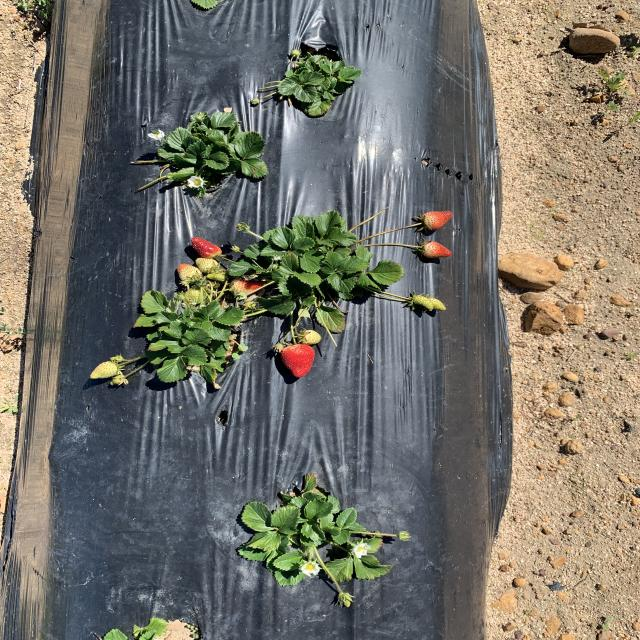unripe: (283, 343, 317, 379), (190, 238, 221, 258), (422, 241, 453, 259), (424, 210, 453, 228)
